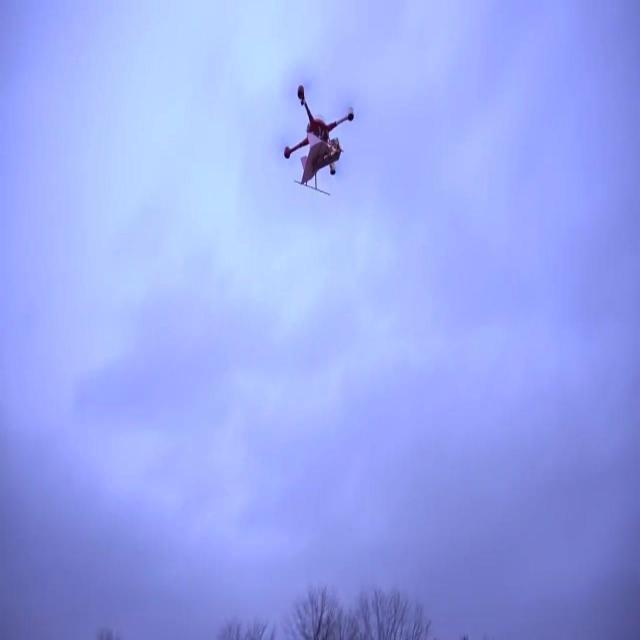UAV: (284, 86, 354, 196)
